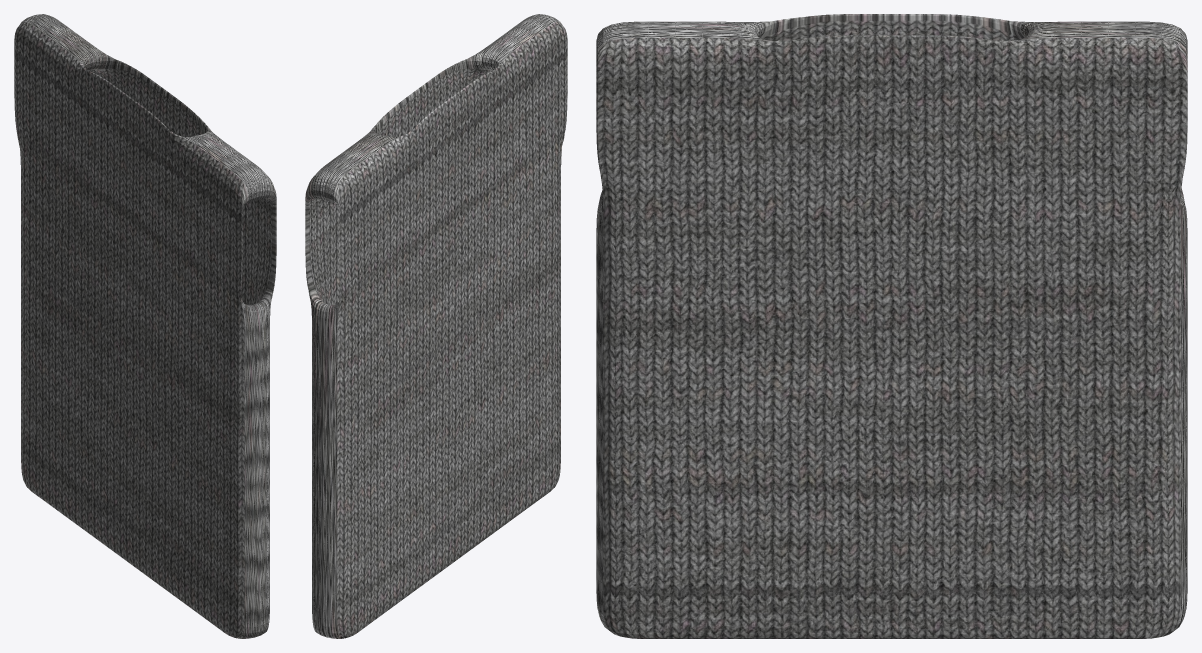
Rendered from straight-neck.fbx.
3 views of the same model, side by side, from view 1: azimuth 30°, elevation 25°; view 2: azimuth 150°, elevation 25°; view 3: azimuth 270°, elevation 25° (orthographic). The views are drawn at different scales.
Visible parts, largest first — view 1: Cube.001; view 2: Cube.001; view 3: Cube.001.
Boxes of the visible parts, bbox=[...] form: Cube.001: bbox=[14, 14, 276, 638]; Cube.001: bbox=[305, 14, 567, 638]; Cube.001: bbox=[596, 14, 1187, 638].
Bounding box in the file's own units: 15 × 179 × 159.
1 material, 1 textured.
